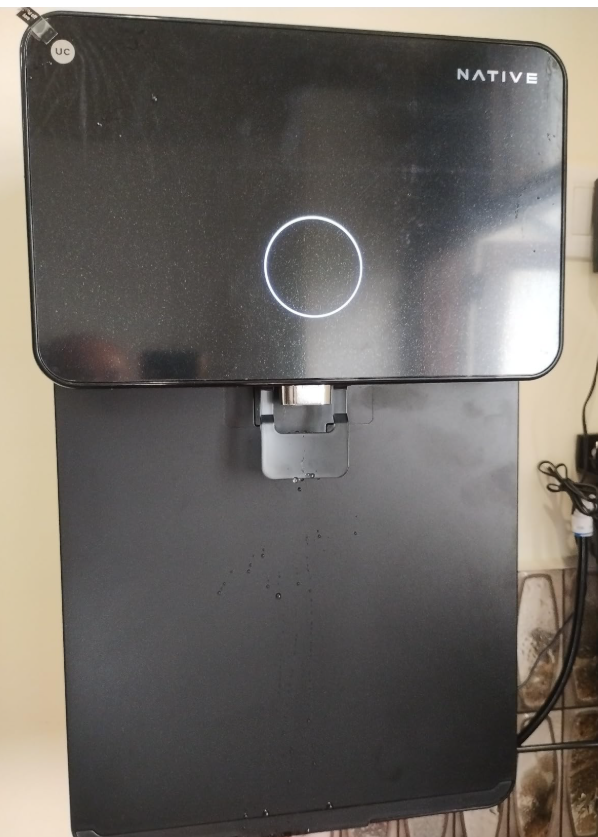water purifier: (21, 4, 567, 823)
